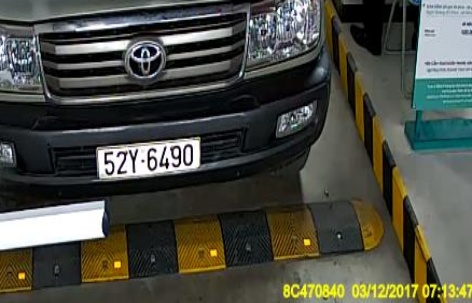plate: (89, 136, 211, 184)
